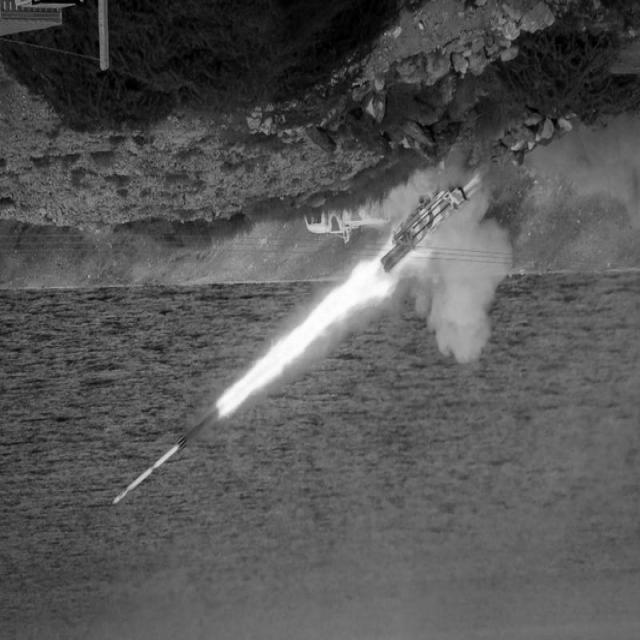missile: (108, 403, 221, 510)
